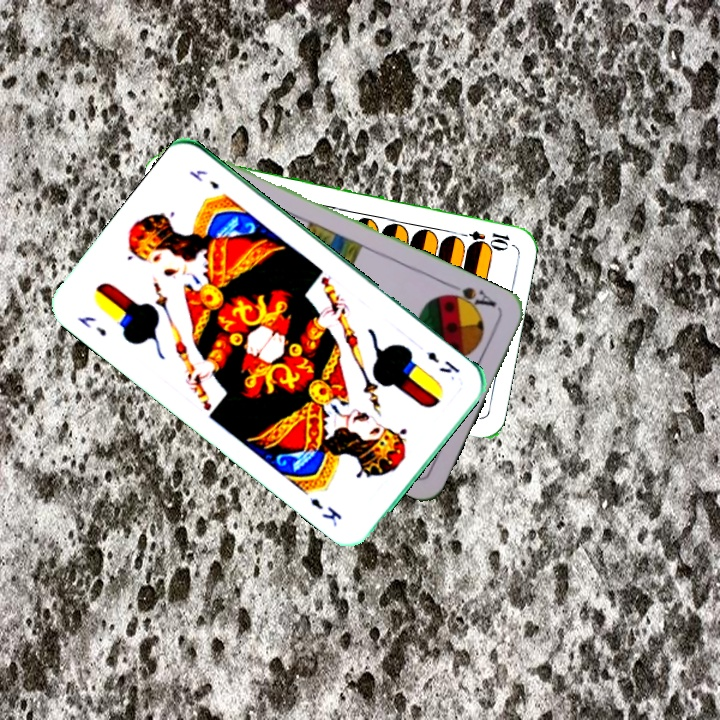E10: (453, 226, 513, 250)
EK: (422, 347, 462, 376), (74, 312, 109, 339)
SA: (441, 279, 499, 315)
